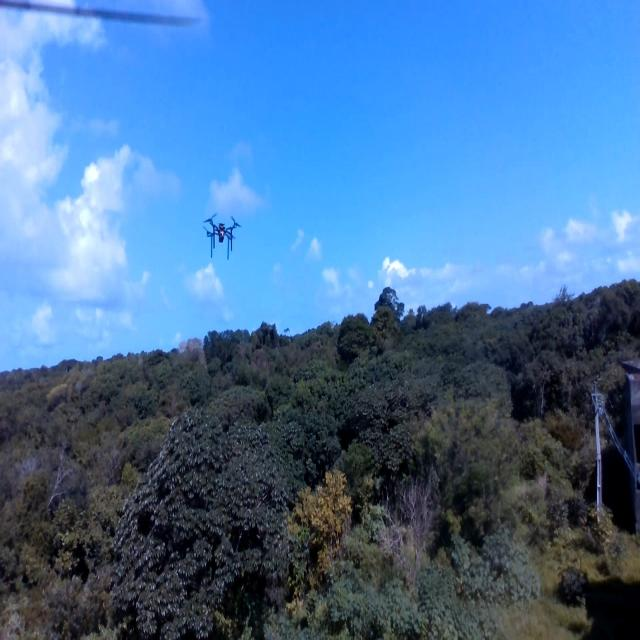-uav-: (201, 198, 247, 272)
